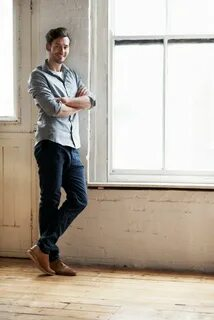awake: (26, 26, 98, 277)
